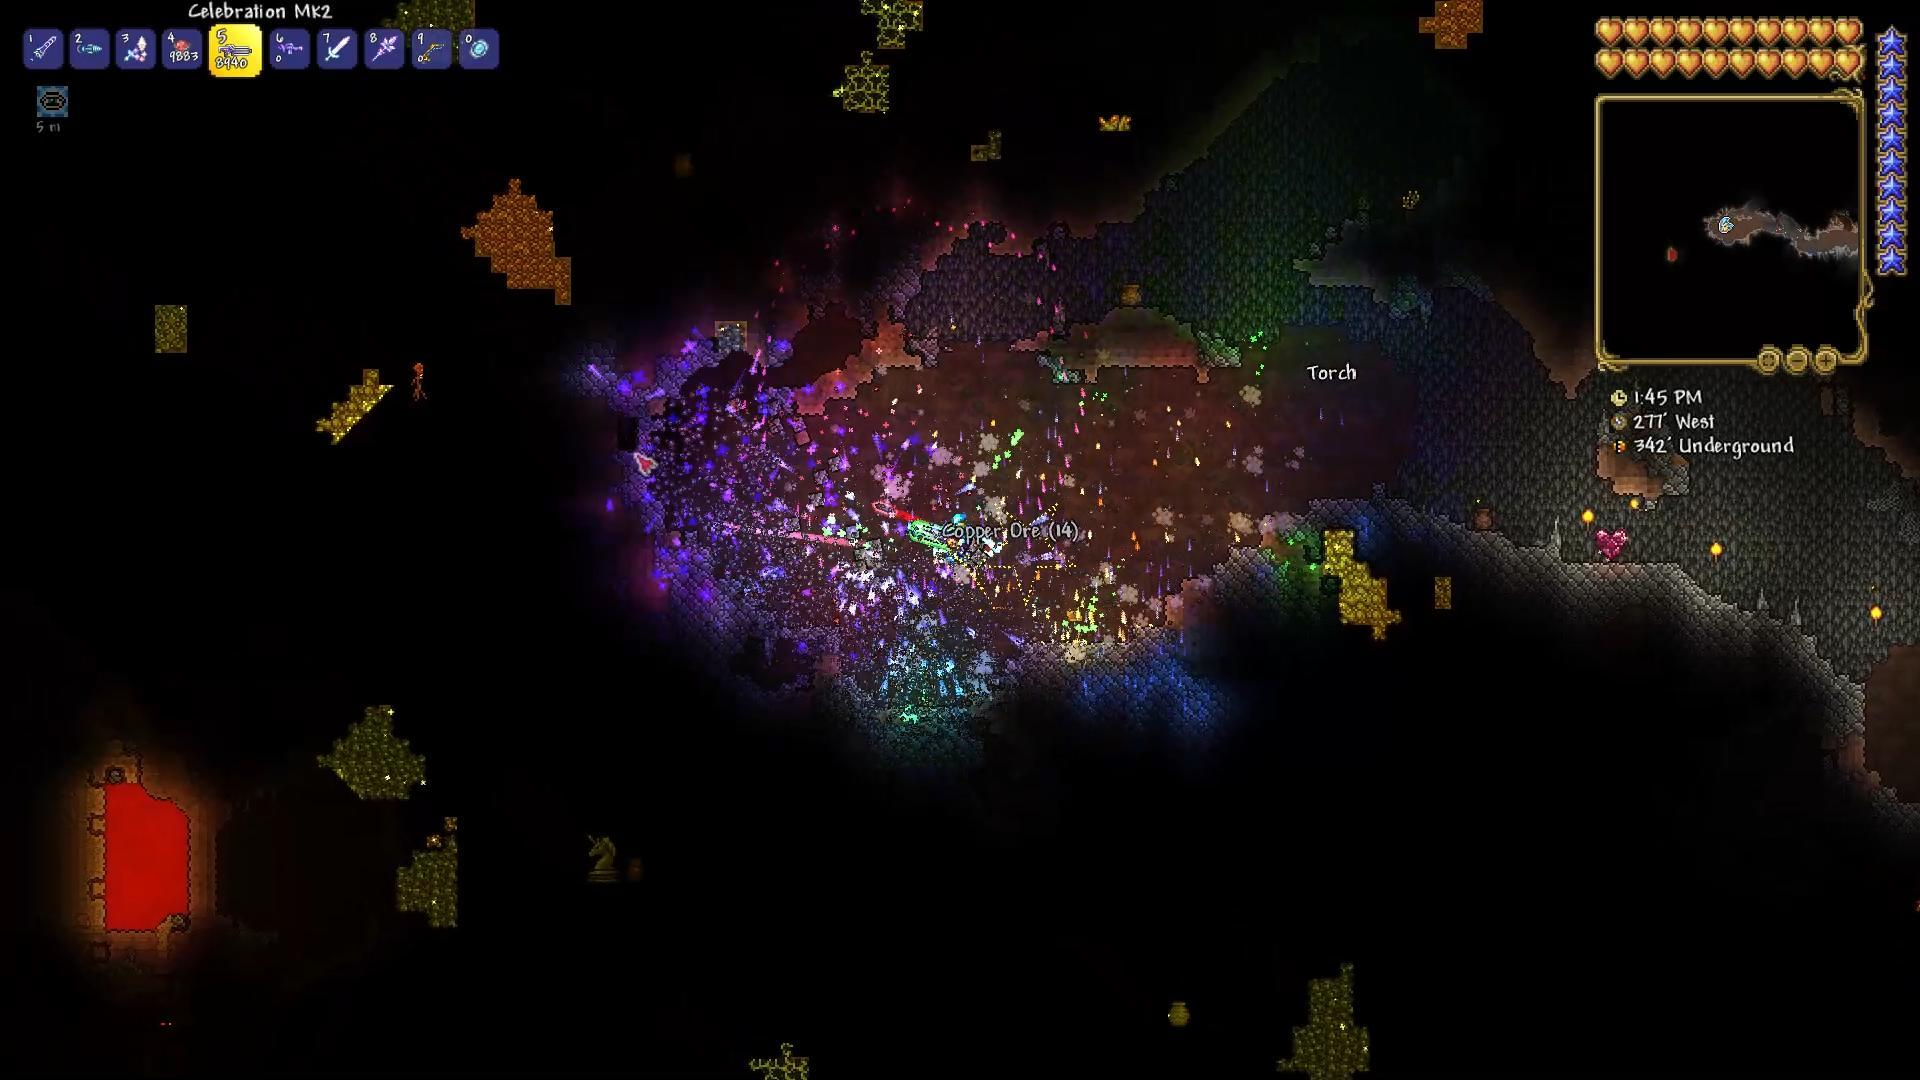lifeC: (1593, 524, 1630, 563)
pot: (1160, 993, 1199, 1030), (1473, 502, 1498, 533)
